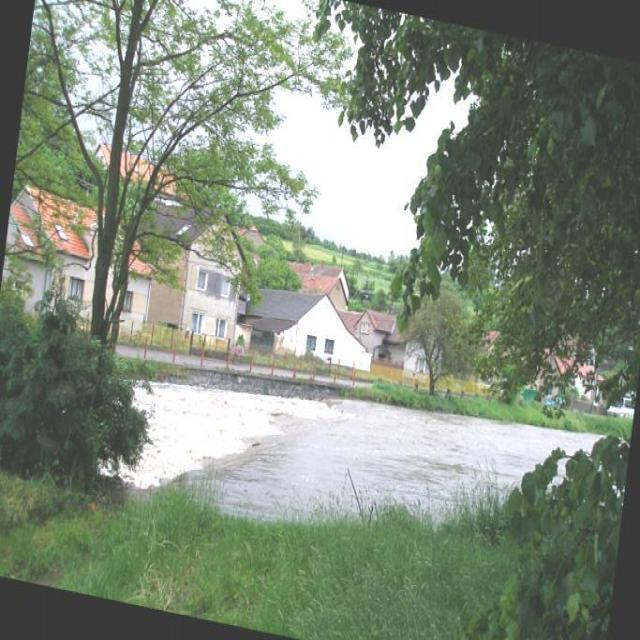flood: (89, 322, 619, 606)
